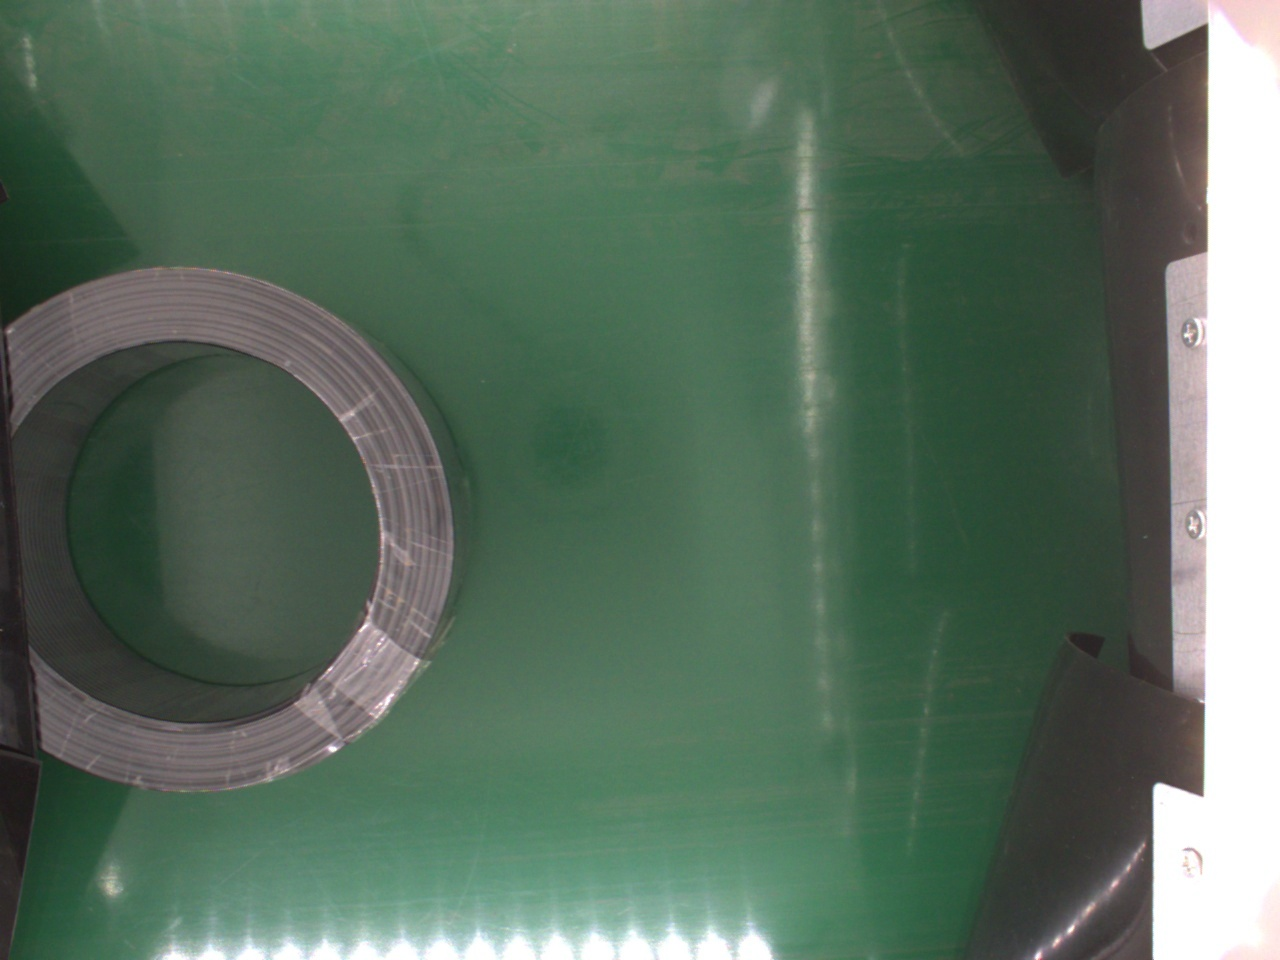black: (10, 269, 460, 802)
